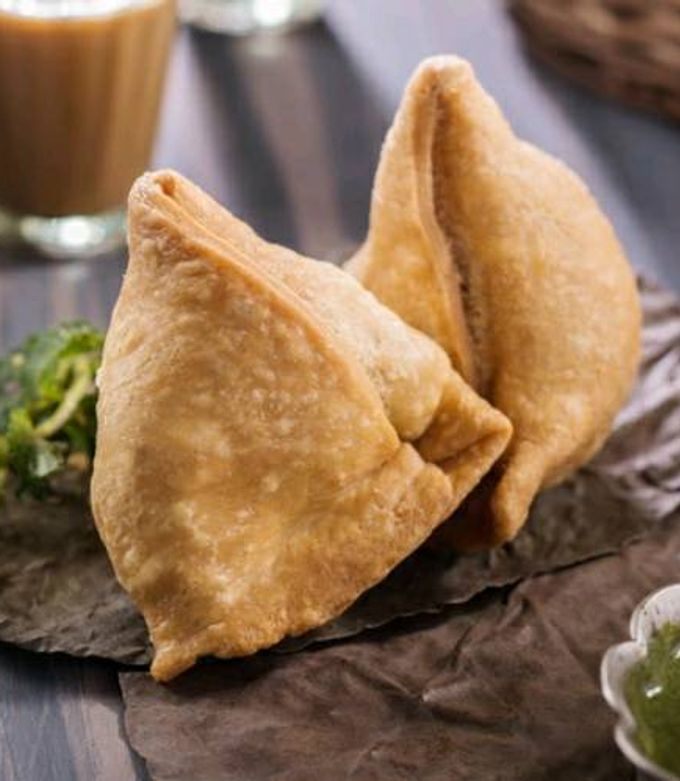samosa: (77, 147, 512, 690), (352, 40, 645, 538)
